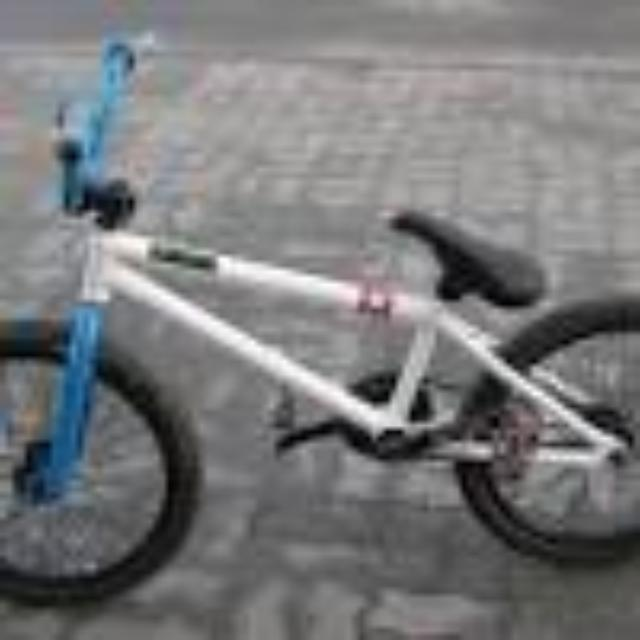obstacle: (3, 39, 631, 605)
